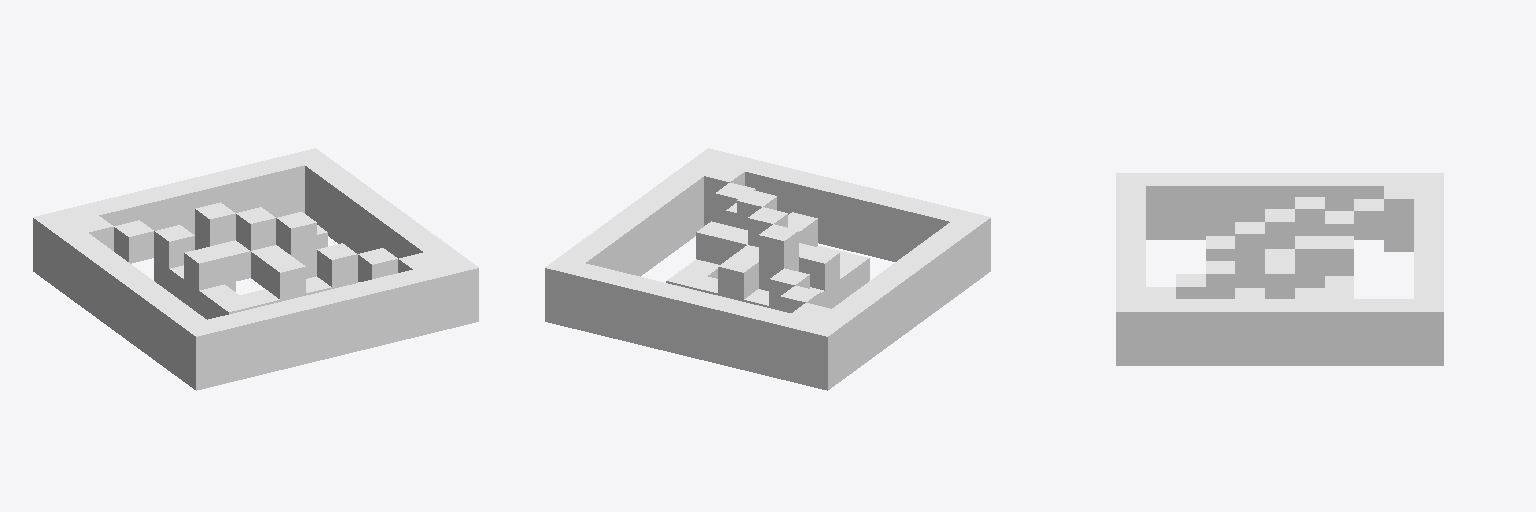
Rendered from buttonShape_hideHelpers.obj.
3 renders of one model, left to right at view 1: azimuth 30°, elevation 25°; view 2: azimuth 150°, elevation 25°; view 3: azimuth 270°, elevation 25°, orthographic.
Size of the model in its own units: 11 by 3 by 11.